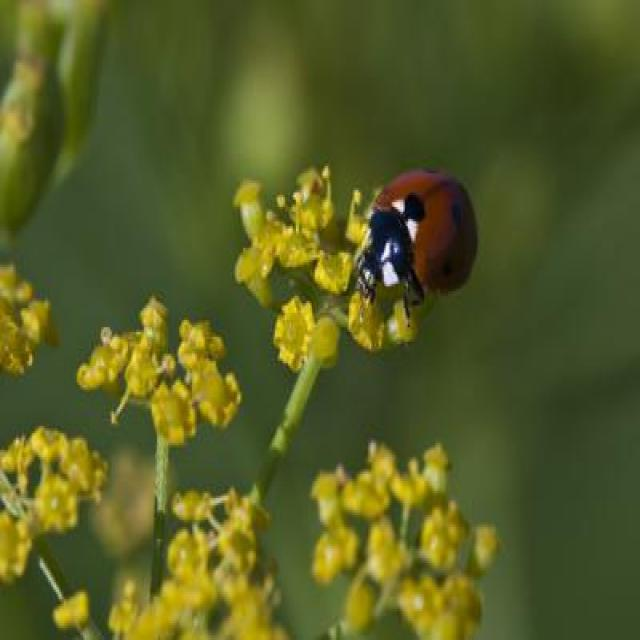body: (362, 163, 476, 292)
insect: (361, 163, 480, 326)
legs: (400, 271, 431, 328)
wings: (374, 163, 477, 292)
